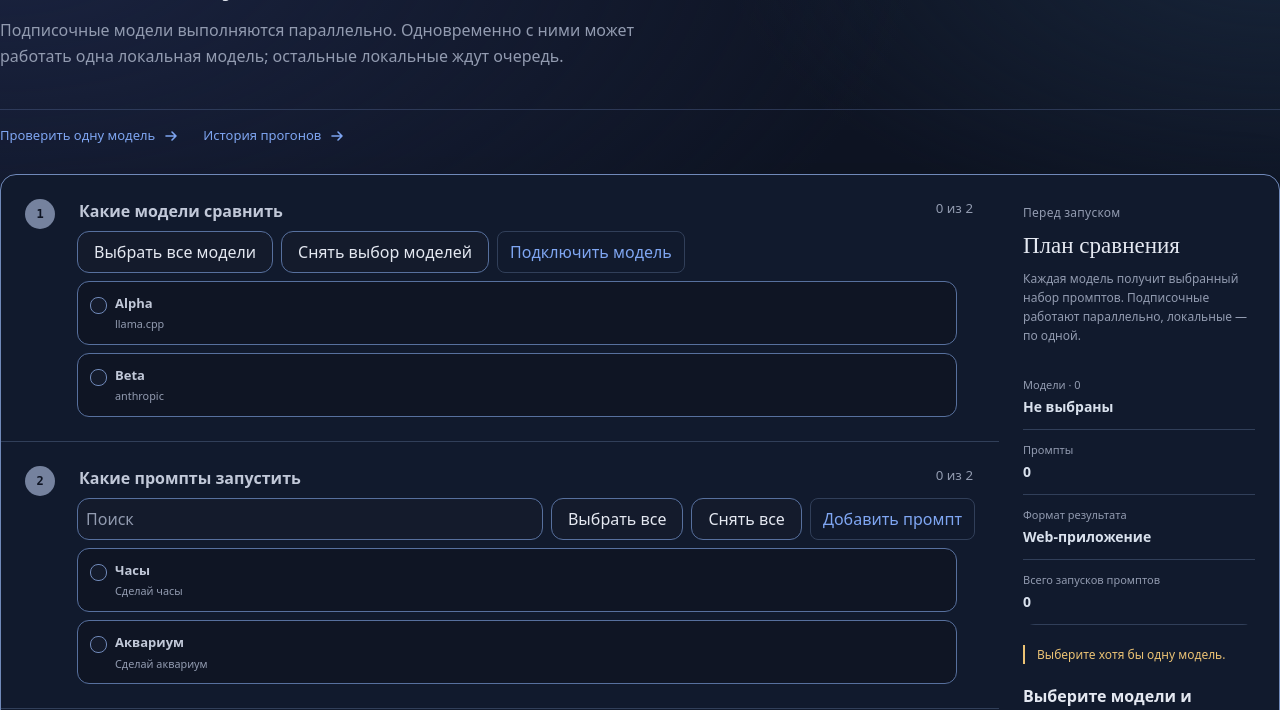
Test: форма массового запуска › не даёт запустить без моделей или без промптов
The image size is (1280, 710).
Expected: the text "Alpha" is shown, [115,294,153,312]
Click the checkbox labelled "Alpha llama.cpp" at (98, 305), box [90,297,107,314]
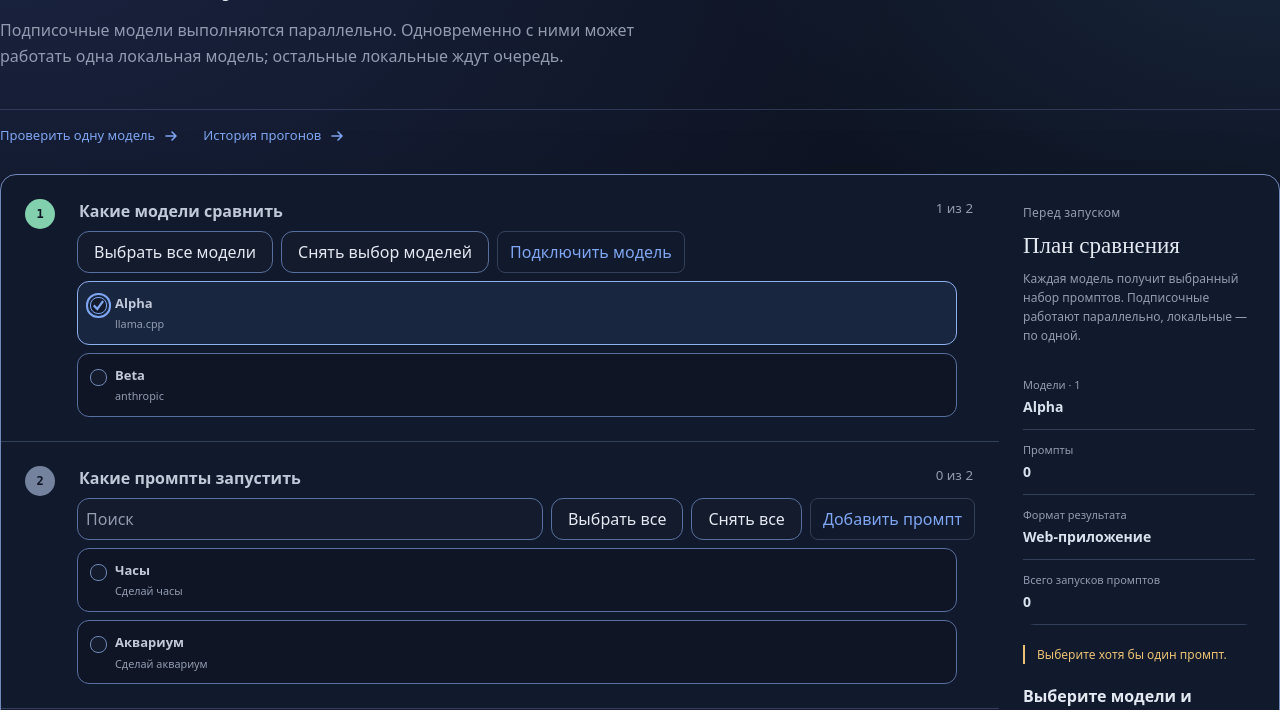
Click the checkbox labelled "Часы Сделай часы" at (98, 572), box [90,564,107,581]
(page scrolled)
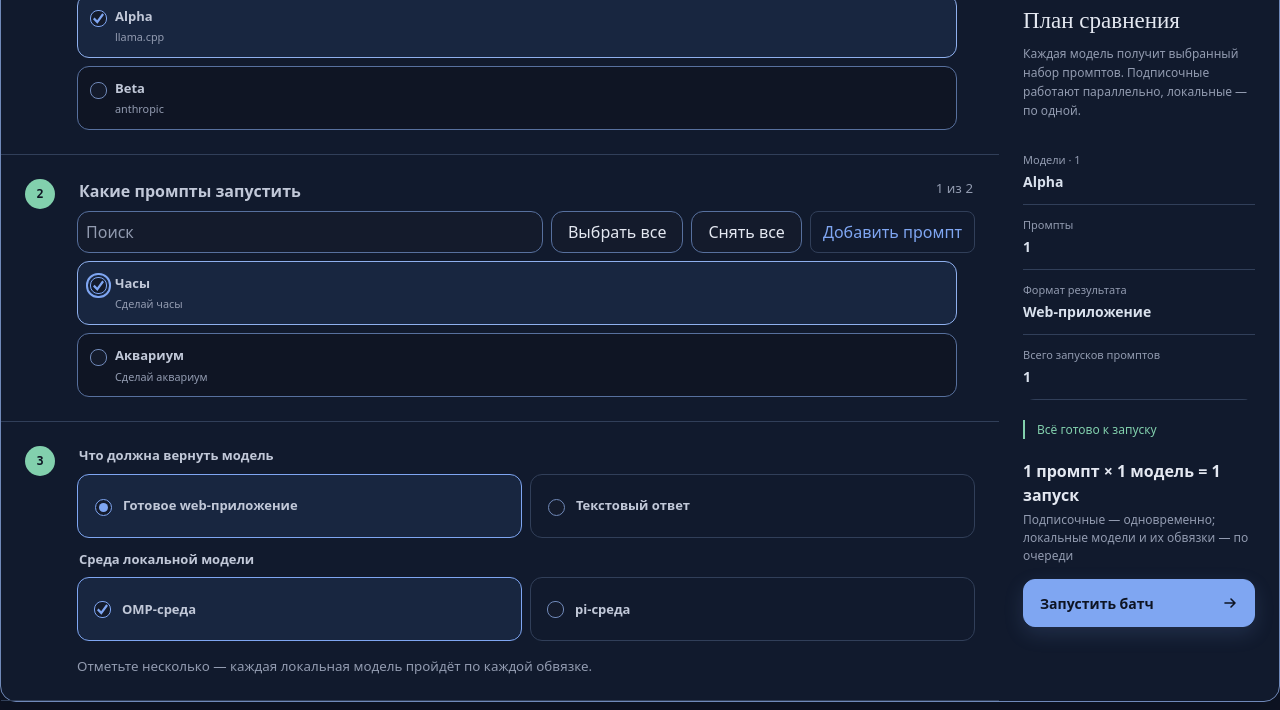
Expected: the button "Запустить батч" is enabled, [1023,579,1255,627]
